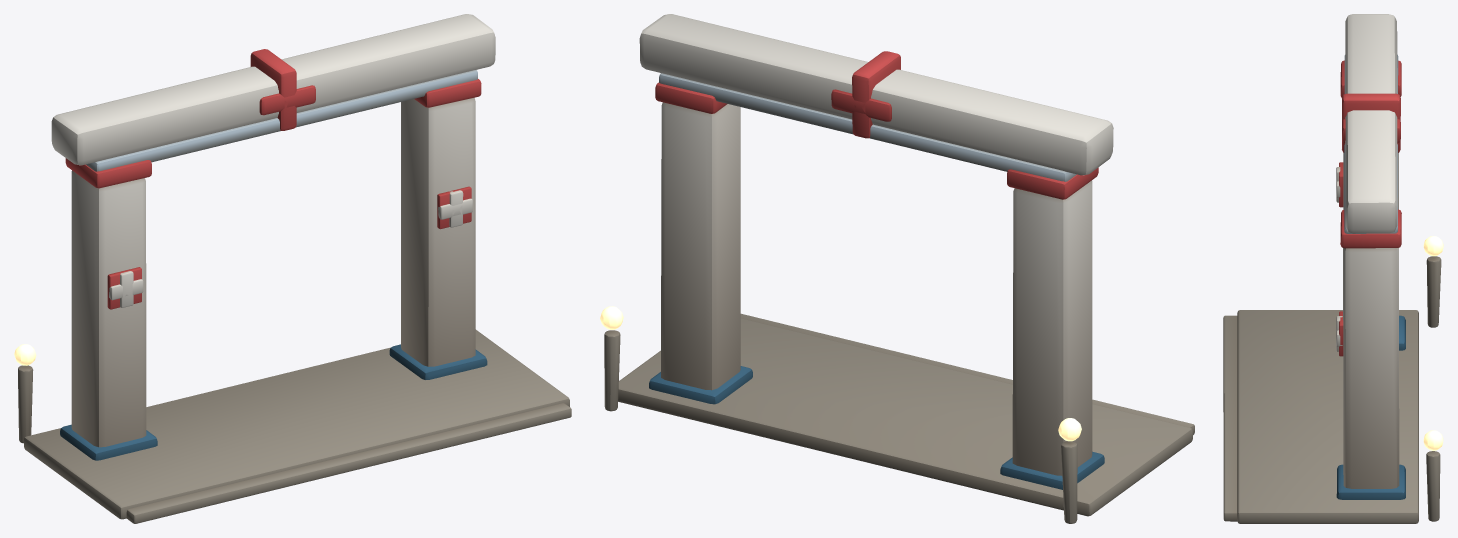
The picture shows the model from 3 angles, left to right: view 1: azimuth 30°, elevation 25°; view 2: azimuth 150°, elevation 25°; view 3: azimuth 270°, elevation 25°; orthographic projection. The views are drawn at different scales.
Visible parts, largest first — view 1: gate_70b5dd84; view 2: gate_70b5dd84; view 3: gate_70b5dd84.
Part boxes in pixels (<box>): gate_70b5dd84: <box>14,14,571,523</box>; gate_70b5dd84: <box>600,14,1194,523</box>; gate_70b5dd84: <box>1223,14,1443,523</box>.
Size of the model in its own units: 5.58 by 4.18 by 2.55.
